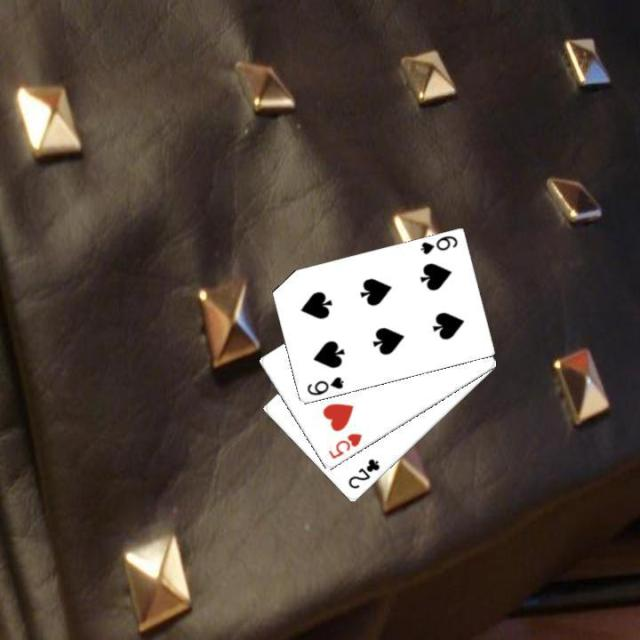2C: (344, 455, 381, 491)
5H: (324, 429, 364, 462)
6S: (303, 373, 346, 398), (416, 232, 459, 257)
